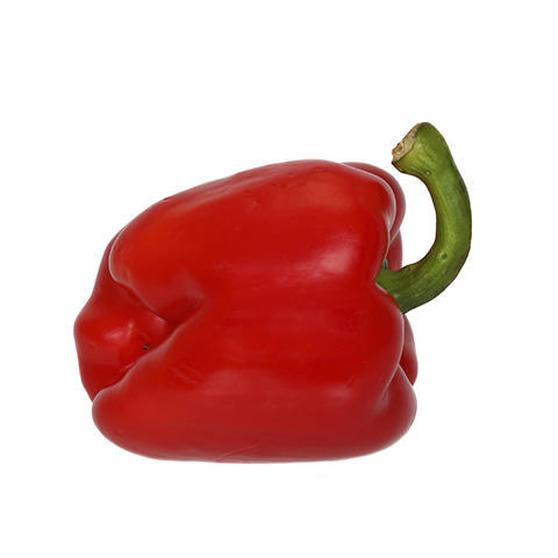pepper: (61, 125, 479, 462)
